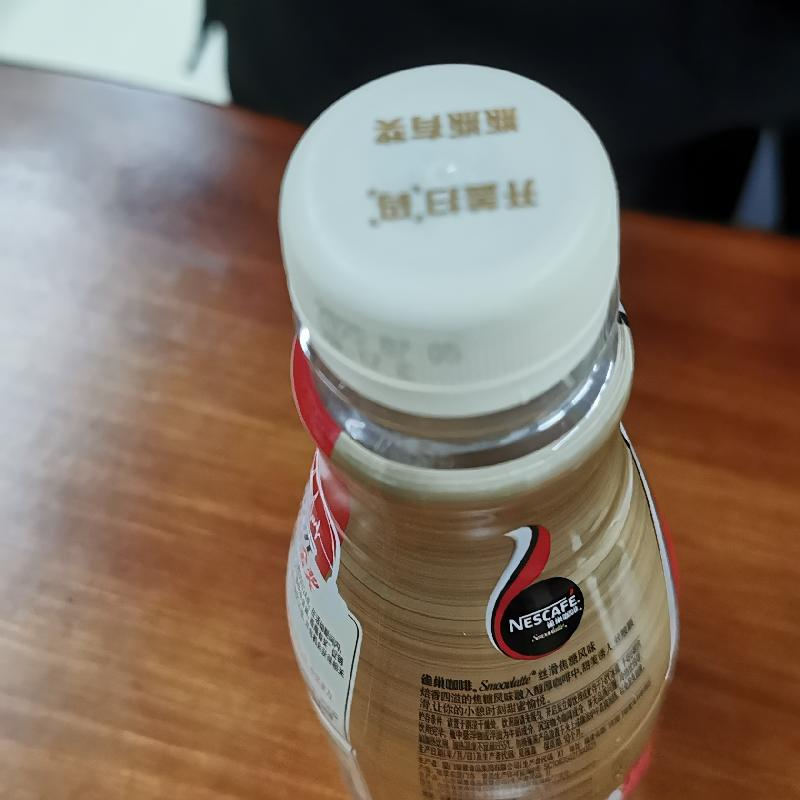bottles: (258, 58, 686, 799)
